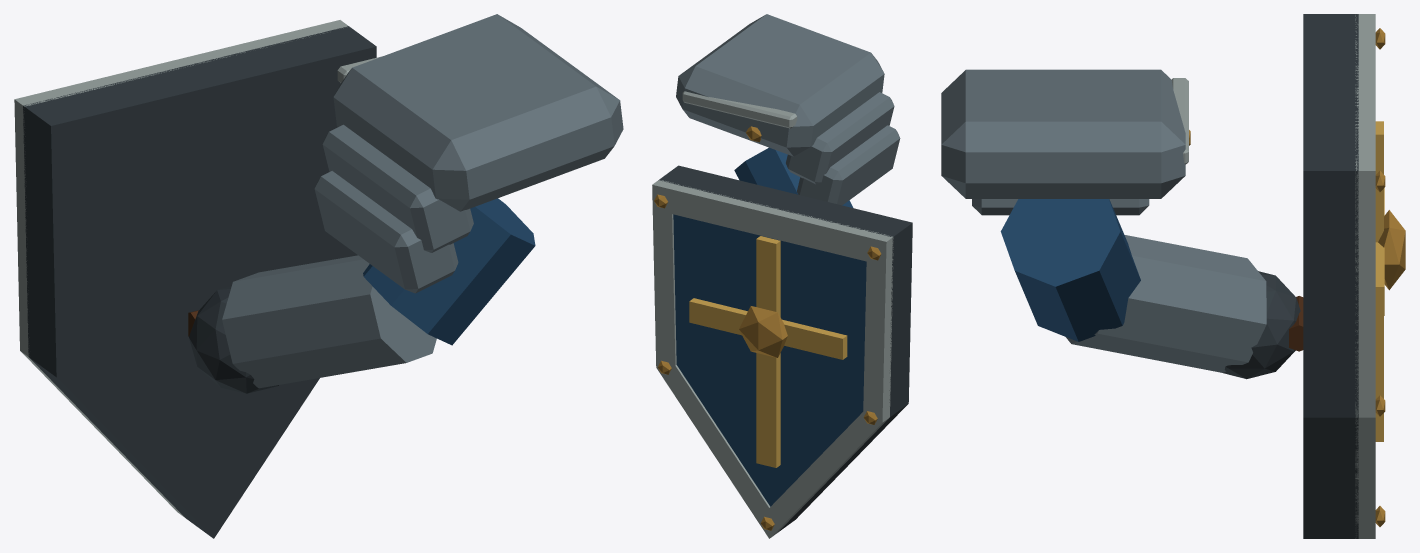
The model's file is ArmLeft.glb.
3 renders of one model, left to right at view 1: azimuth 30°, elevation 25°; view 2: azimuth 150°, elevation 25°; view 3: azimuth 270°, elevation 25°, orthographic. The views are drawn at different scales.
Visible parts, largest first — view 1: Sculpture; view 2: Sculpture; view 3: Sculpture.
Part boxes in pixels (x1,y1,x2,y2): Sculpture: (14, 14, 623, 538); Sculpture: (652, 14, 912, 538); Sculpture: (941, 14, 1405, 538).
Bounding box in the file's own units: 0.786 × 0.9846 × 0.7981.
